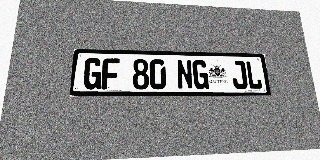0: (149, 59, 166, 89)
8: (132, 59, 149, 89)
F: (101, 58, 120, 89)
G: (83, 58, 102, 90), (192, 60, 209, 89)
J: (231, 61, 248, 89)
L: (245, 61, 263, 89)
N: (176, 60, 193, 89)
